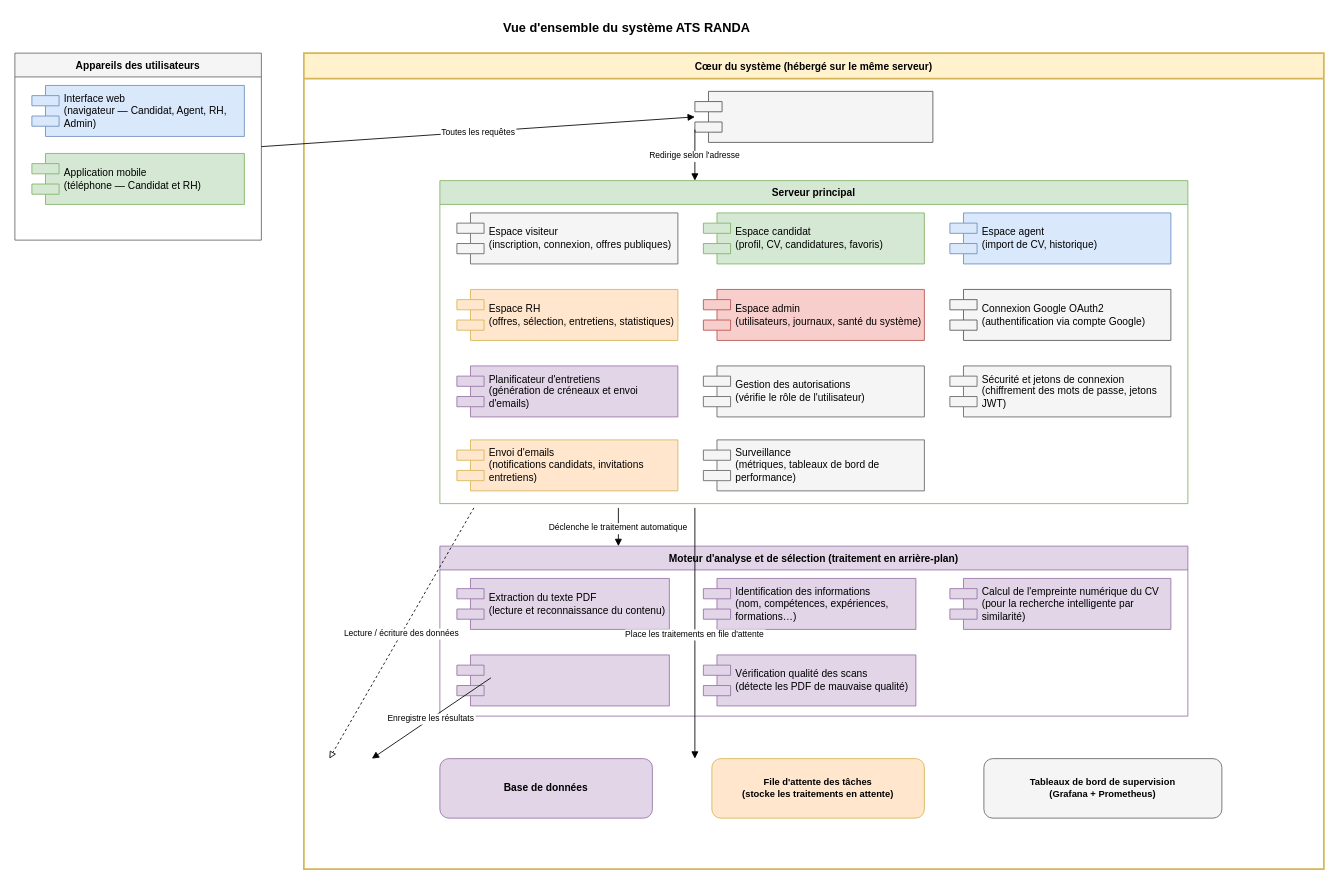
Some shapes in this 1340 by 884 pixel diagram are drawn without their labels. Each missing label, with the centre of its shape:
Moteur de sélection (calcul des scores sur 4 critères): the point at 562,680
Routeur d'accès (dirige les requêtes vers le bon service): the point at 813,116
